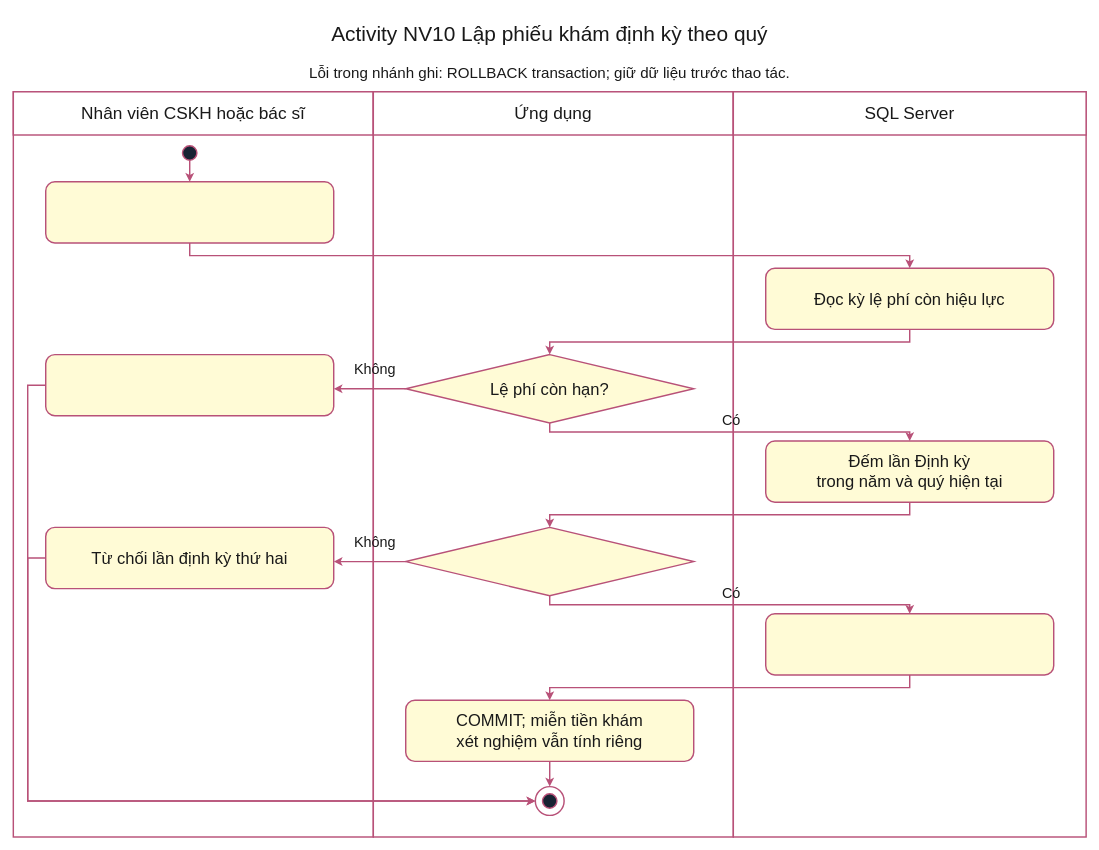
The diagram is 1099 pixels wide and 850 high, and some of its shapes have lost their labels. Here are the shapes that lost their labels. From the top down, the centre of each, then its label:
(x=189, y=212): Chọn Định kỳ; nhập nhận xét sức khỏe và bác sĩ
(x=189, y=385): Từ chối khám định kỳ miễn phí
(x=549, y=561): Chưa khám quý này?
(x=909, y=644): Tiền khám = 0; gắn lịch nếu có lưu phiếu và khoa hiện tại
